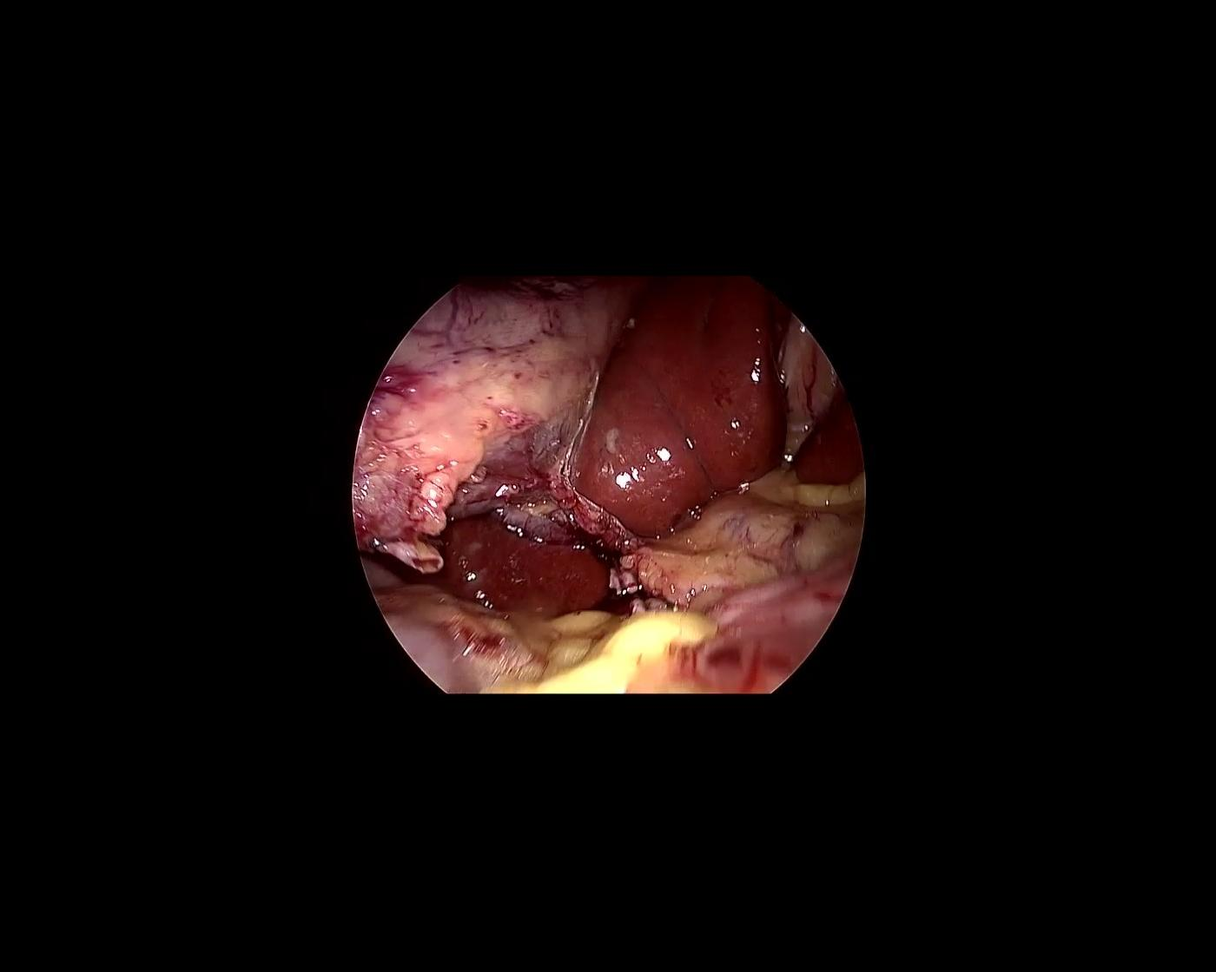Gallbladder: (314, 197, 648, 614)
Liver: (374, 231, 849, 671)
